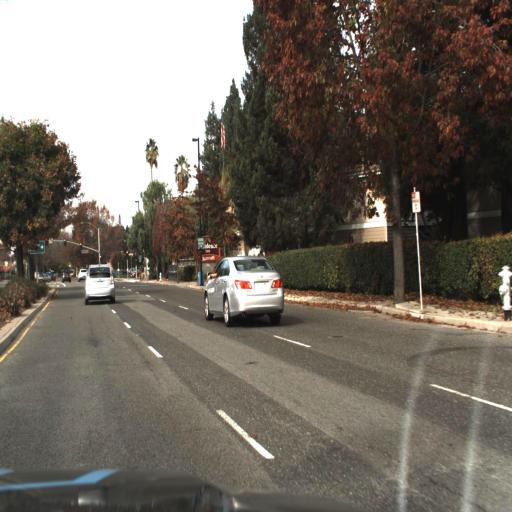car: (203, 252, 291, 332), (83, 259, 117, 305)
